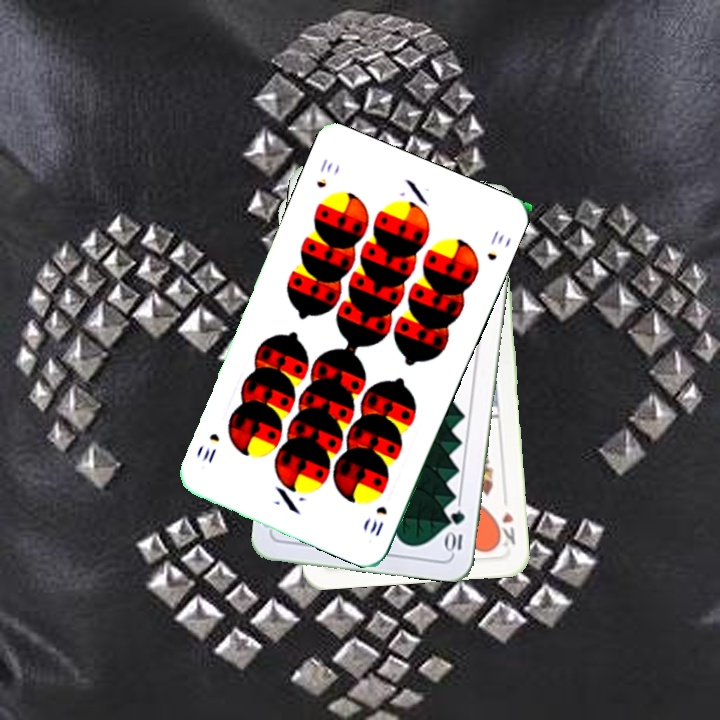G10: (443, 505, 468, 556)
HK: (492, 508, 518, 550)
S10: (365, 501, 390, 540), (312, 154, 336, 191)
